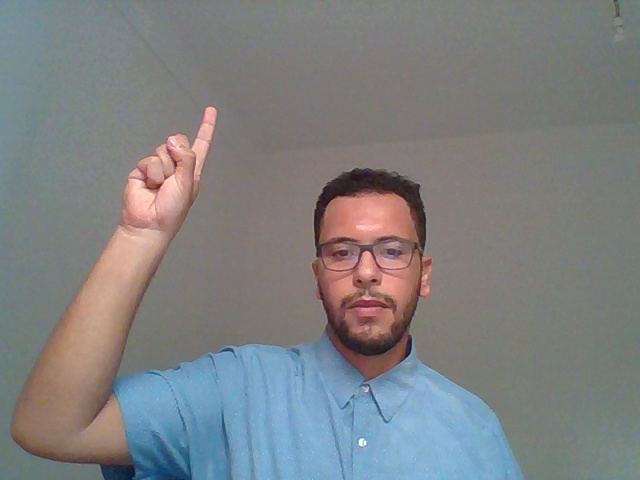handup: (91, 80, 233, 360)
